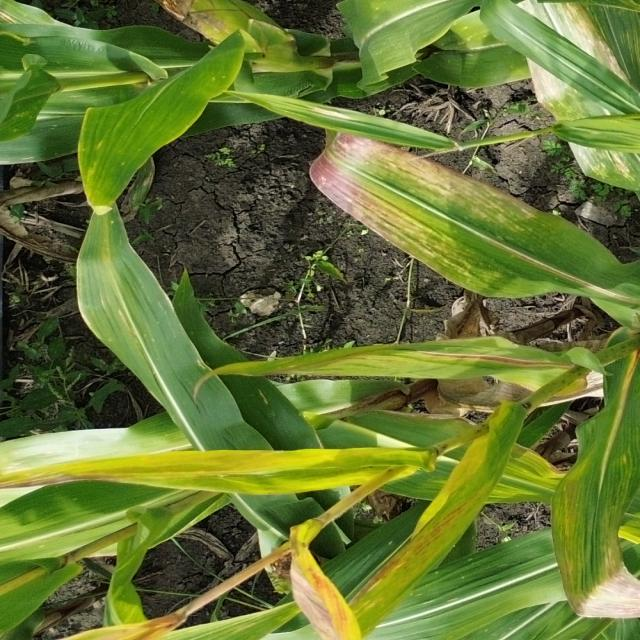gray-leaf-spot: (310, 146, 551, 290), (521, 0, 640, 190), (327, 501, 469, 637), (550, 434, 640, 632)
